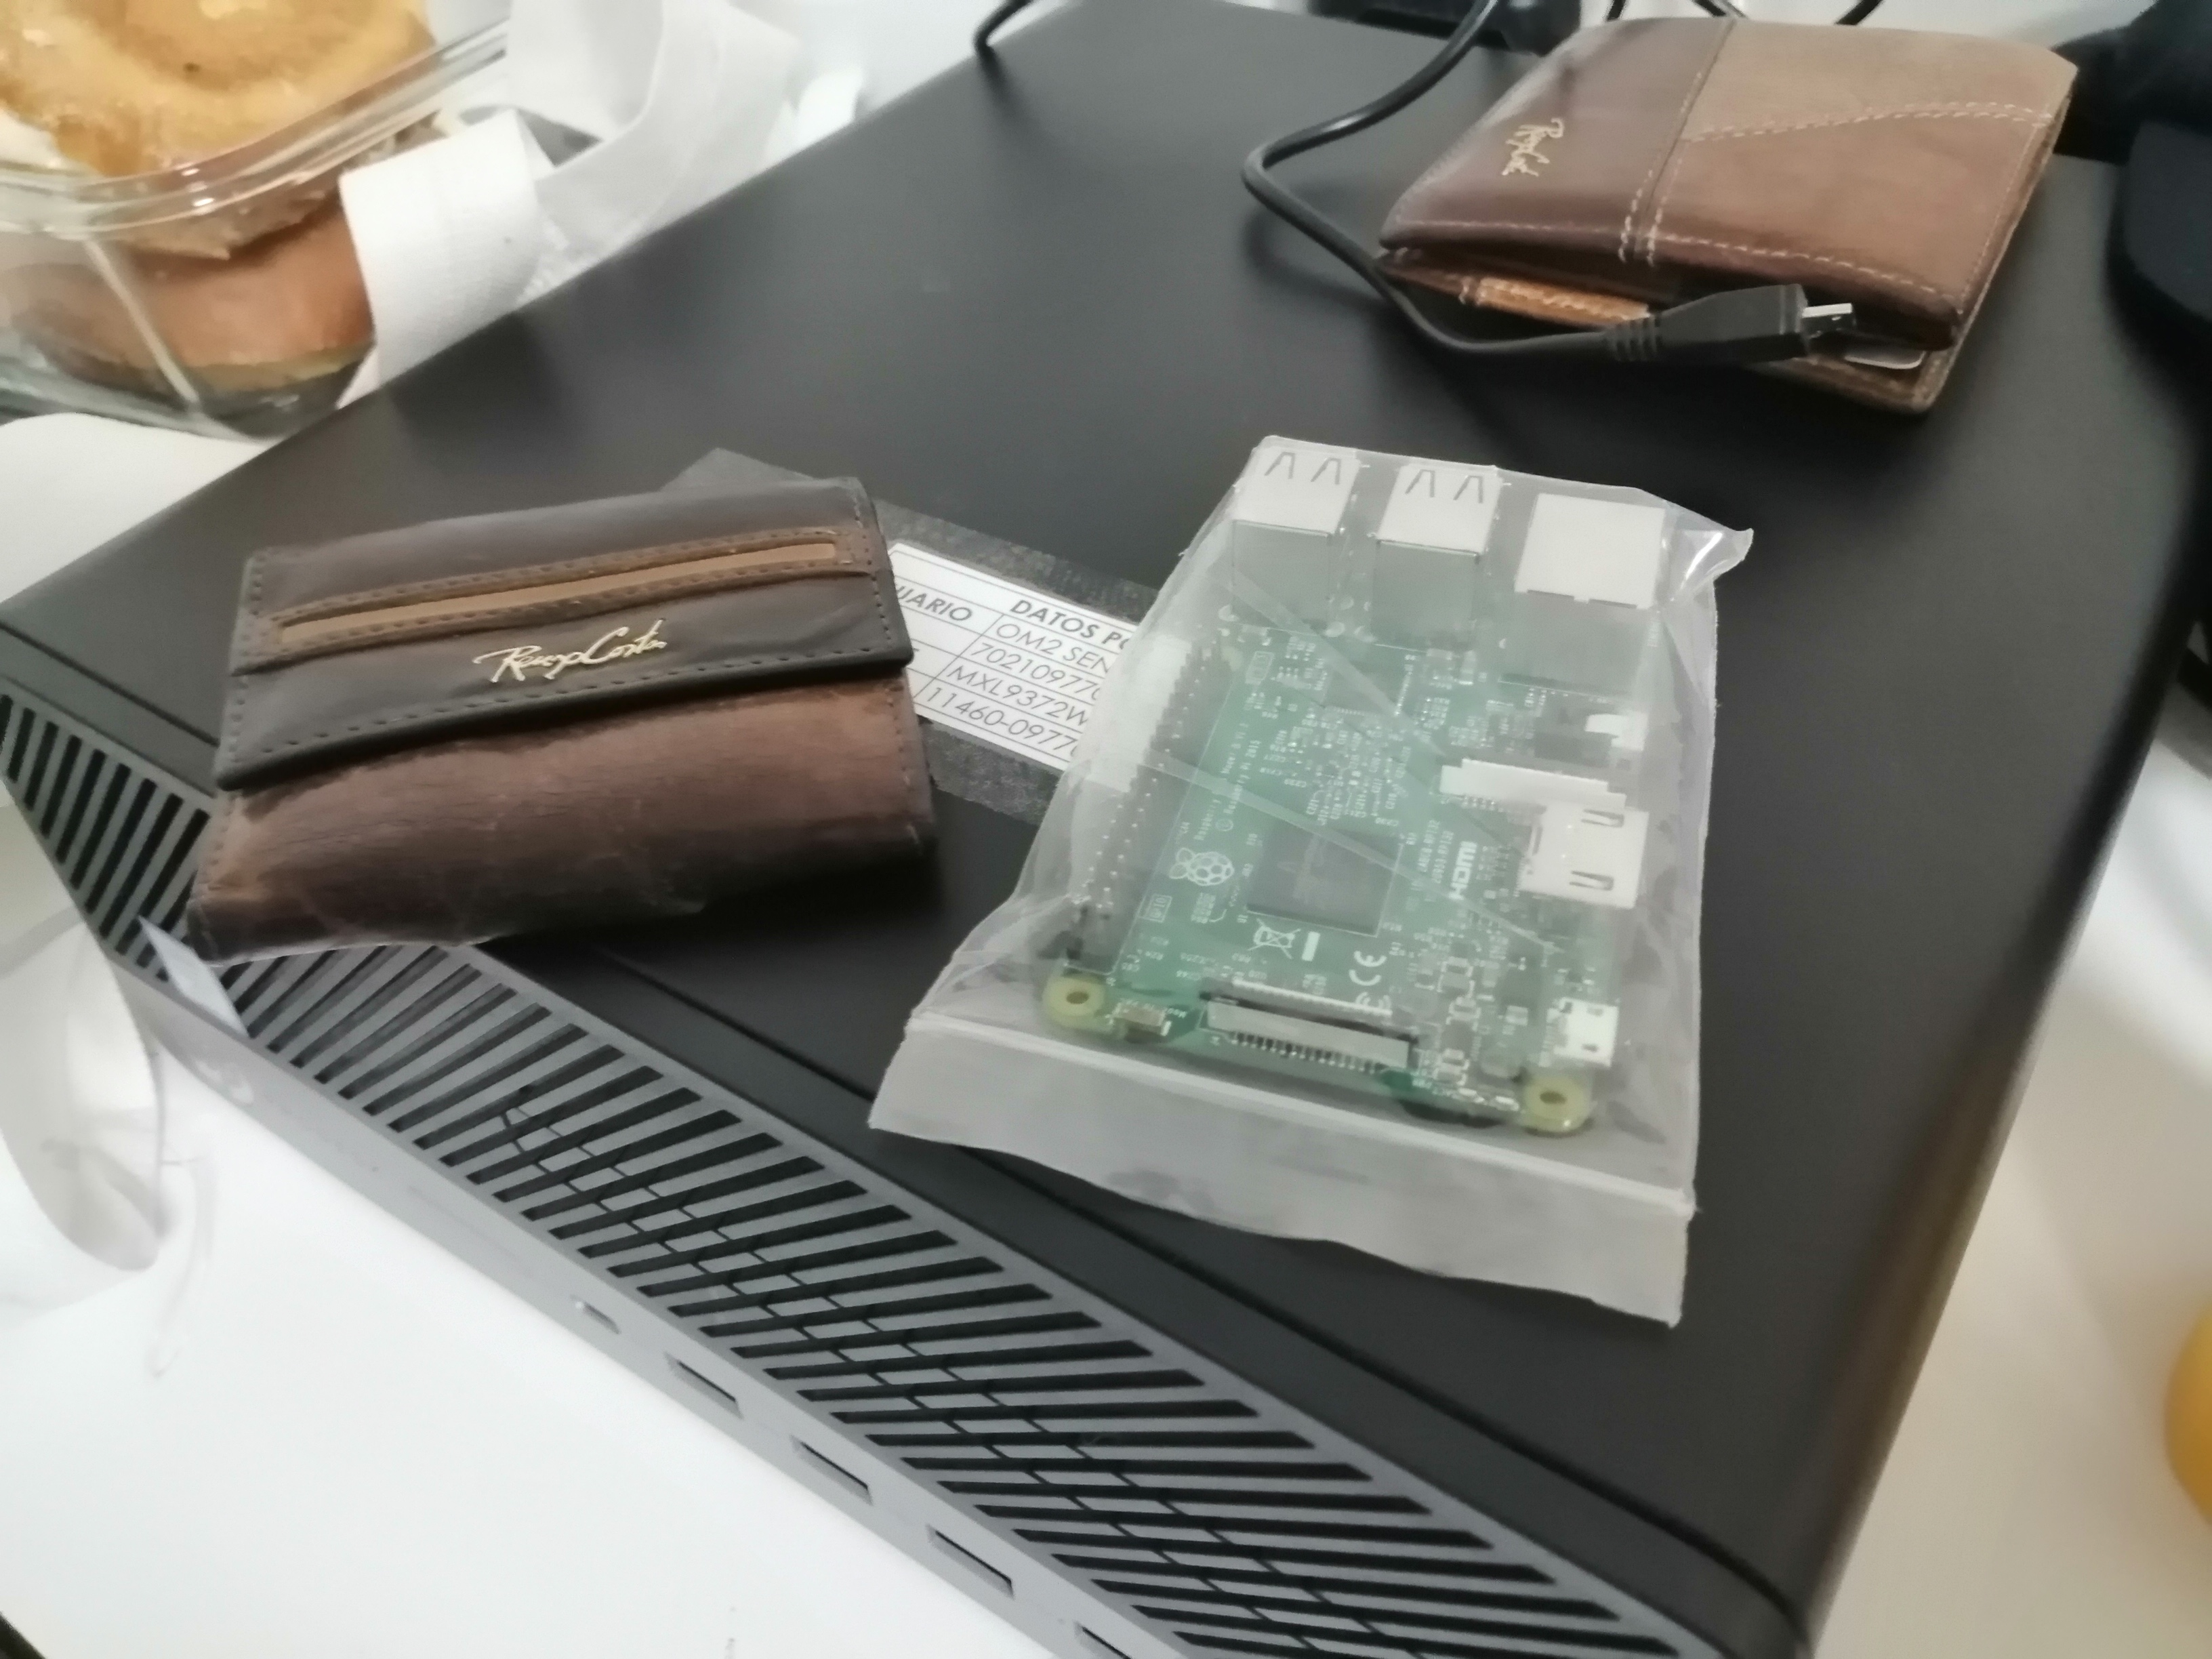monedero: (176, 457, 965, 972)
